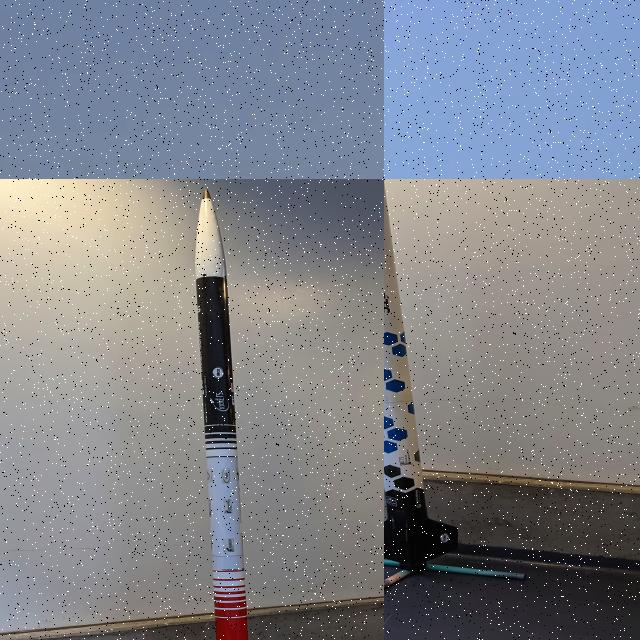Rocket: (384, 180, 458, 570), (195, 189, 249, 640)
